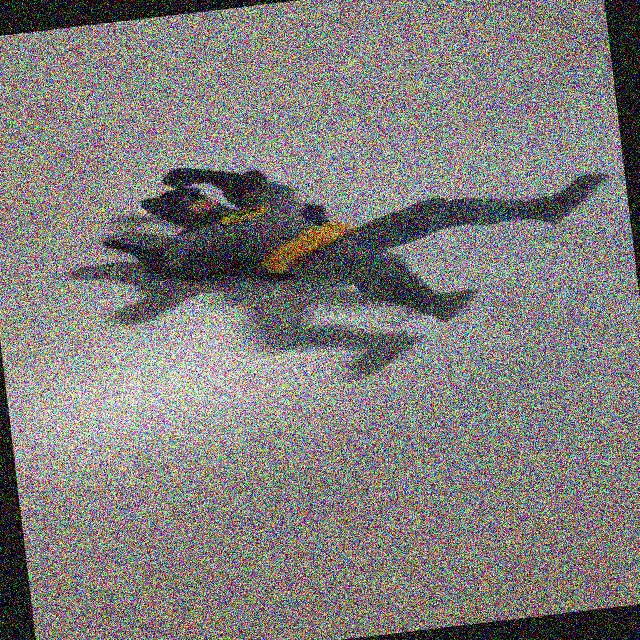Batman: (98, 120, 621, 358)
